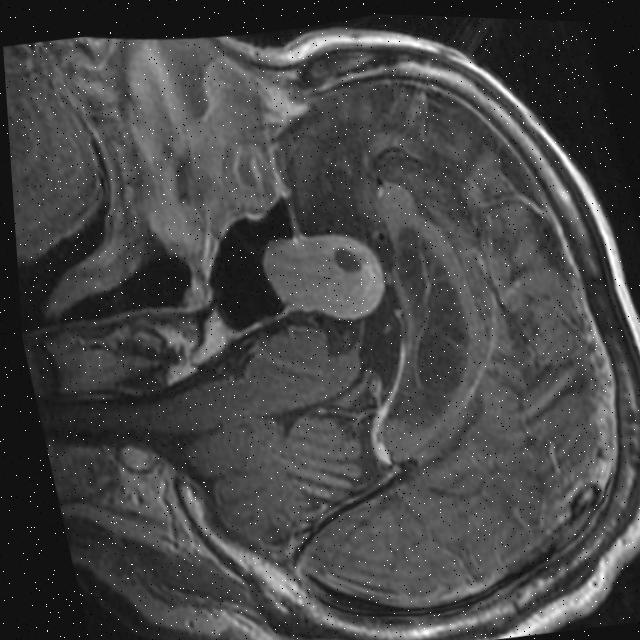Pituitary: (257, 221, 393, 333)
